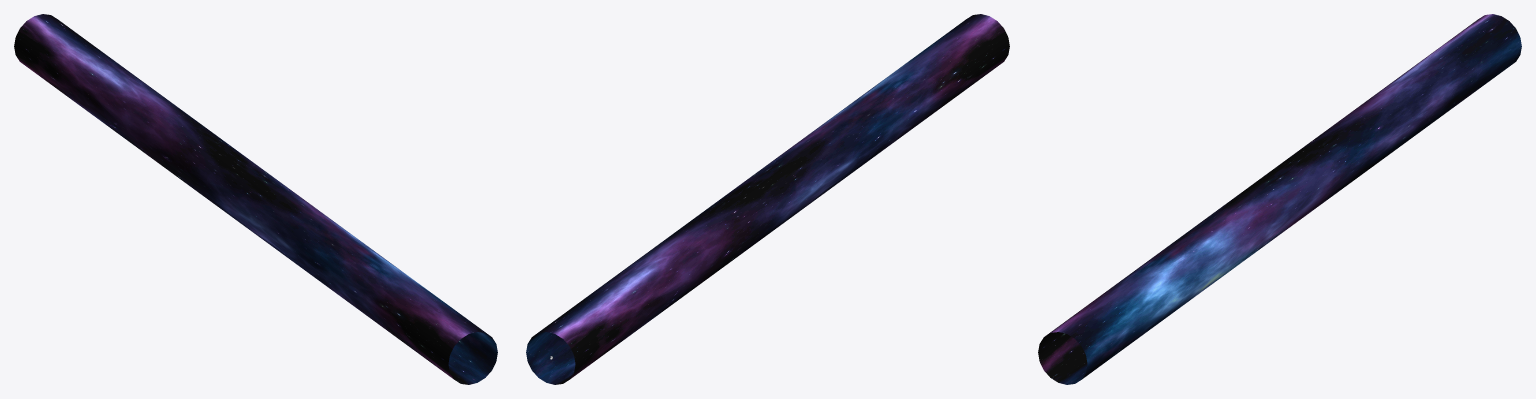
File: cockPit_Mocup_v01.FBX
3 views of the same model, side by side, from view 1: azimuth 30°, elevation 25°; view 2: azimuth 150°, elevation 25°; view 3: azimuth 330°, elevation 25° (orthographic).
Parts seen in each view (by area): view 1: Cylinder018; view 2: Cylinder018; view 3: Cylinder018.
Boxes of the visible parts, x1,y1,x2,y2 form: Cylinder018: (14, 14, 497, 384); Cylinder018: (526, 14, 1009, 384); Cylinder018: (1038, 14, 1521, 384).
Size of the model in its own units: 5316 by 5236 by 80891.
20 materials, 5 textured.
